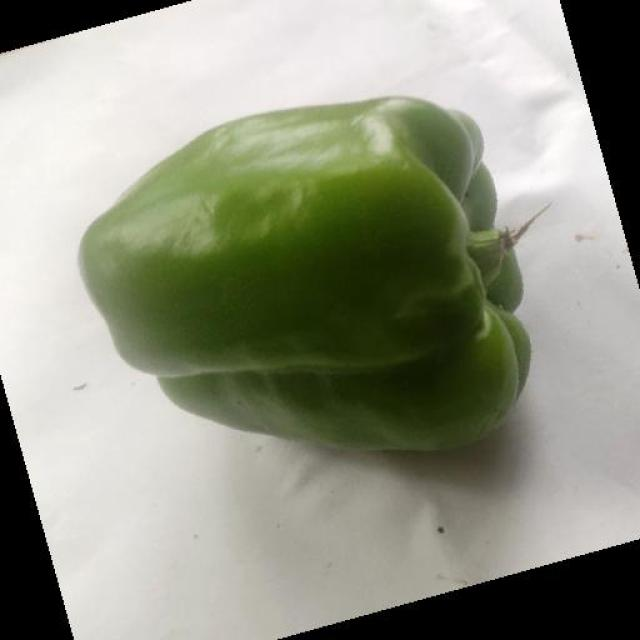Fresh_Capsicum: (114, 98, 522, 479)
